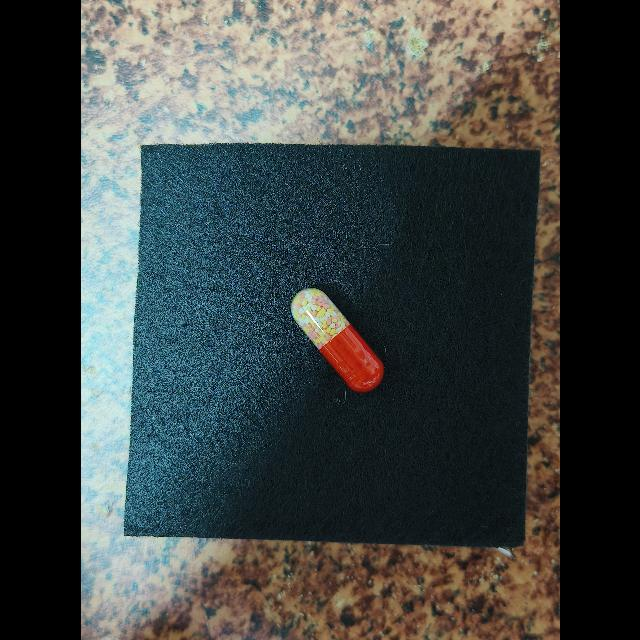Intact Capsule: (290, 288, 384, 392)
